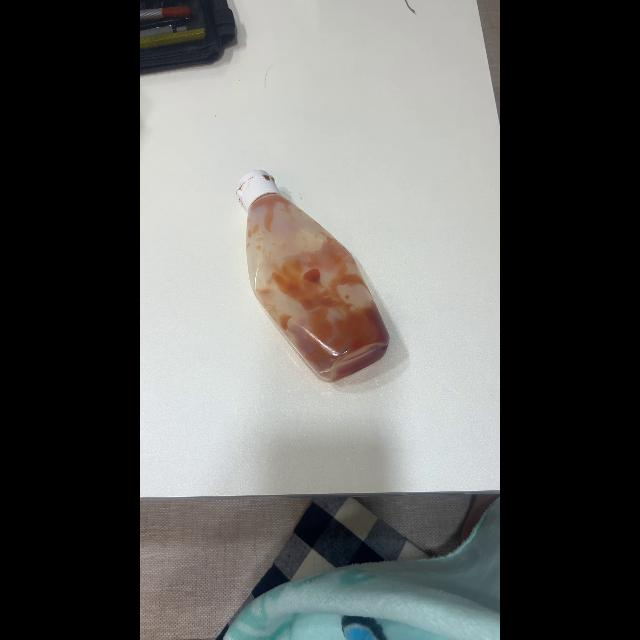dirty: (247, 174, 391, 380)
